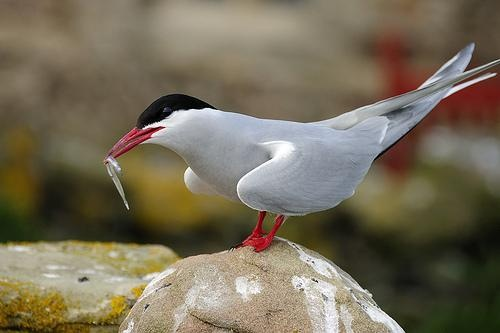bird: (100, 43, 498, 254)
